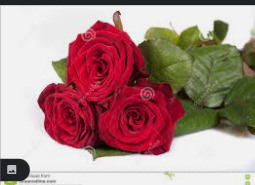RedRose: (62, 14, 152, 103), (103, 78, 184, 155), (31, 82, 97, 152)
